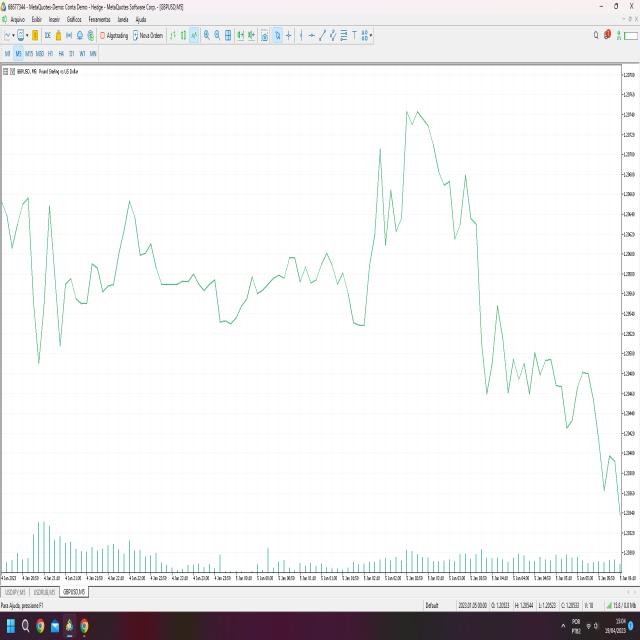bandeira_baixa: (465, 208, 550, 402)
oco: (354, 82, 491, 301)
